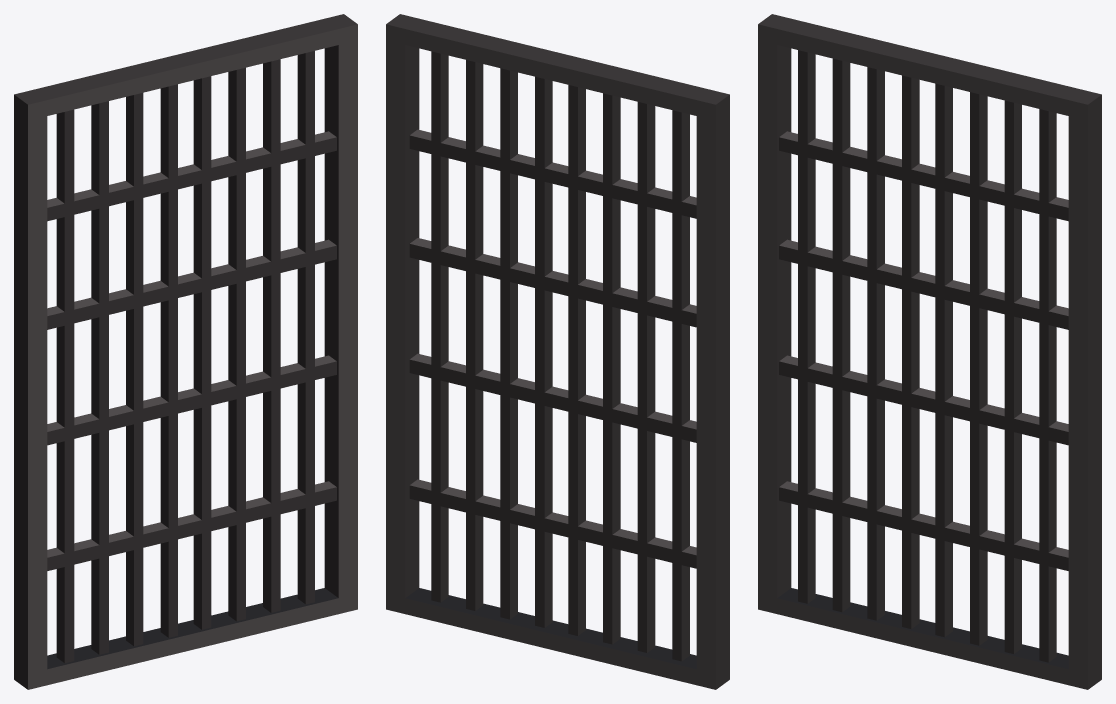
File: celldoor.fbx
The picture shows the model from 3 angles, left to right: view 1: azimuth 30°, elevation 25°; view 2: azimuth 150°, elevation 25°; view 3: azimuth 330°, elevation 25°; orthographic projection.
Visible parts, largest first — view 1: celldoor; view 2: celldoor; view 3: celldoor.
Boxes of the visible parts, x1,y1,x2,y2 form: celldoor: [14, 14, 357, 689]; celldoor: [386, 14, 729, 689]; celldoor: [758, 14, 1101, 689].
Bounding box in the file's own units: 94.3 × 160 × 6.97.
